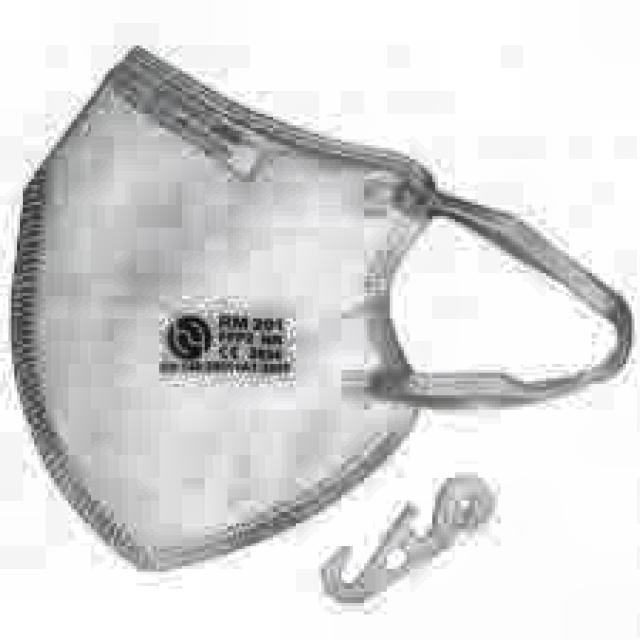trash: (14, 43, 640, 576)
